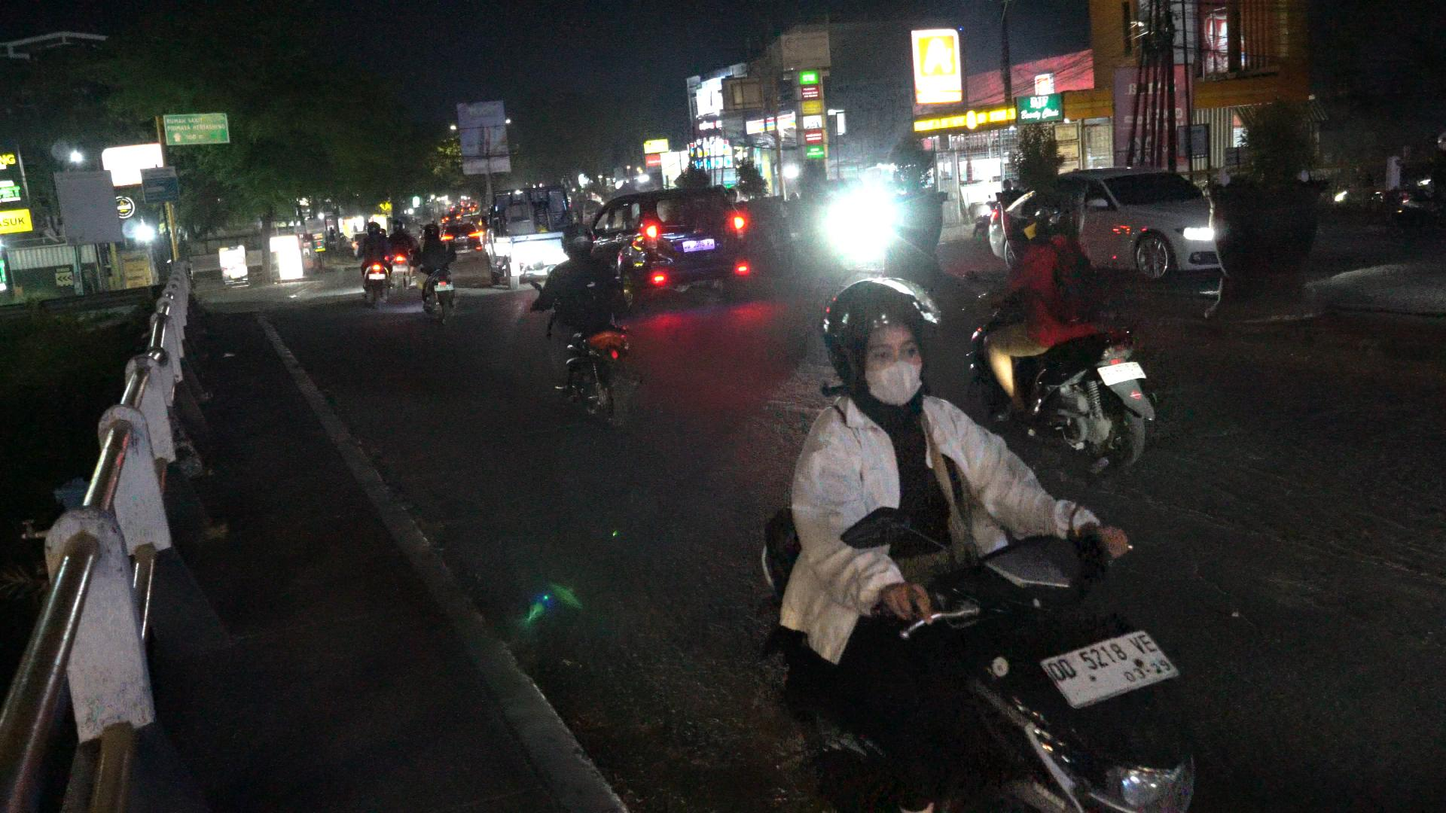number-plate: (1040, 626, 1184, 705)
